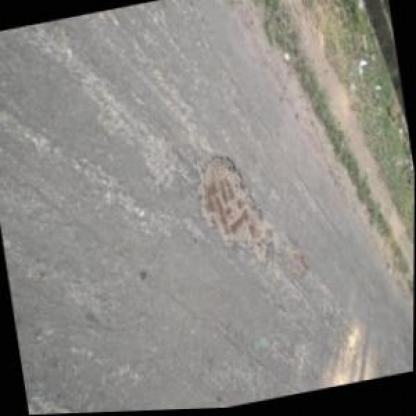pothole: (190, 147, 275, 270), (283, 240, 308, 280)
